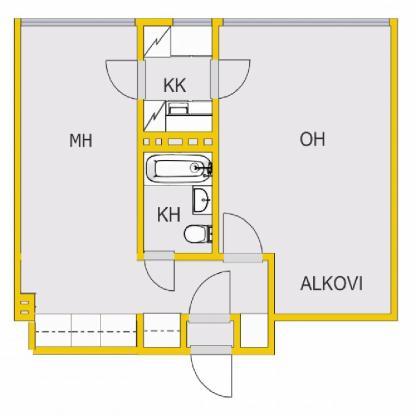door: (187, 270, 239, 401), (221, 210, 263, 265), (209, 58, 254, 104), (104, 57, 148, 104), (143, 250, 177, 294)
window: (20, 26, 270, 346), (217, 25, 390, 314), (144, 25, 211, 134), (143, 152, 212, 253), (222, 18, 390, 28), (18, 16, 135, 29), (173, 15, 211, 25)
